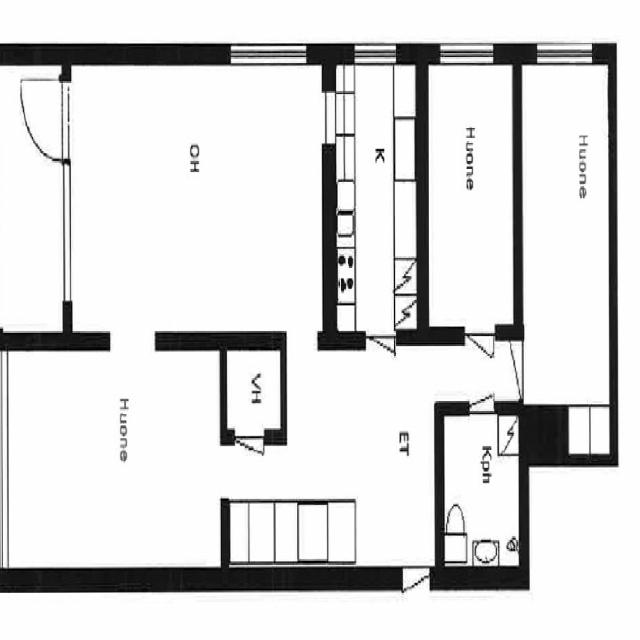door: (21, 81, 72, 160), (482, 341, 523, 401), (365, 331, 395, 406), (465, 331, 494, 406), (402, 567, 430, 640), (236, 429, 264, 499), (470, 353, 494, 415)
